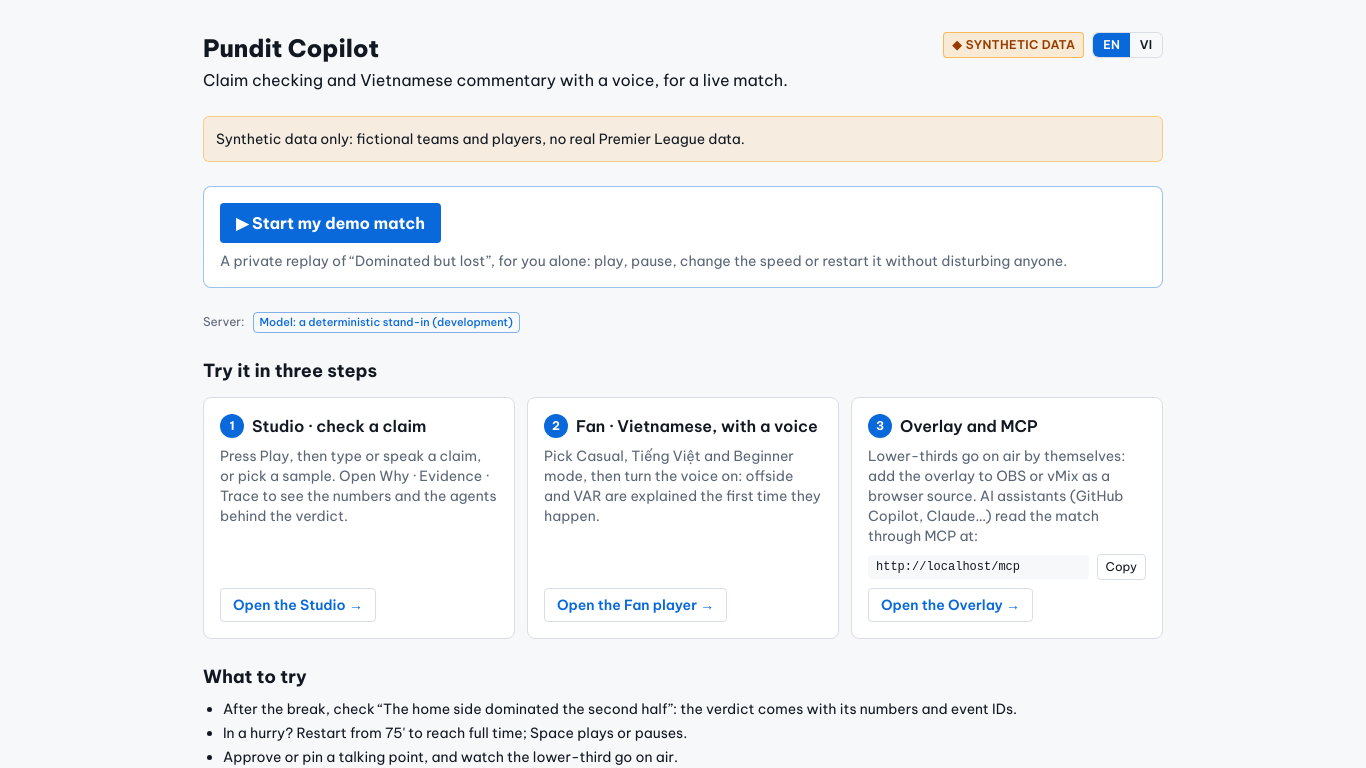
Test case: landing page › step 3 shows this server's MCP address, ready to copy
Click the button "Copy" at (1121, 567), box [1097, 554, 1146, 580]
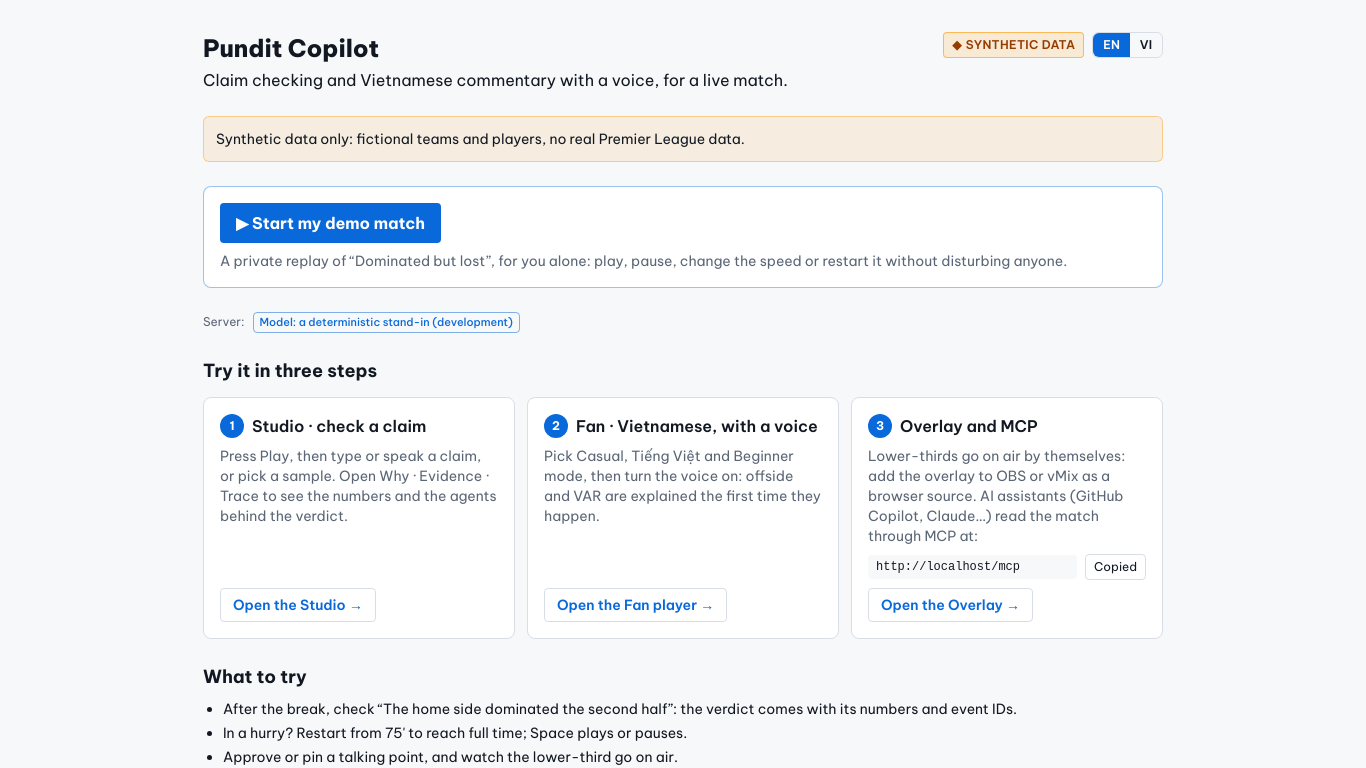
Check: the element with test id "mcp-url" shows "Copied", box [1085, 554, 1146, 580]
